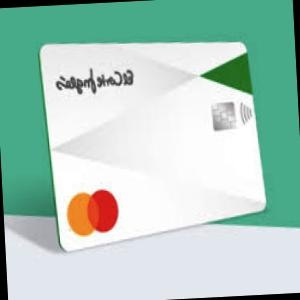corte_ingles: (109, 32, 163, 94)
